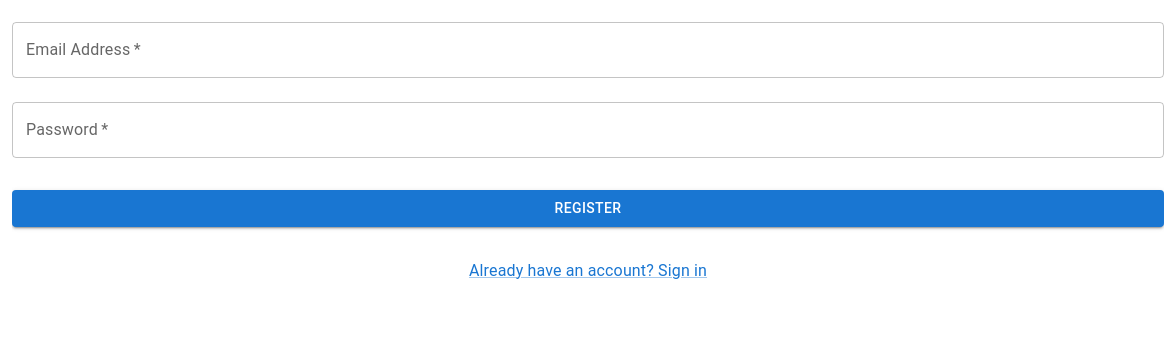
RegisterForm › displays error messages for invalid inputs
In the field labelled "Email Address *": (588,50) [12,22,1164,78], type "invalid-email"
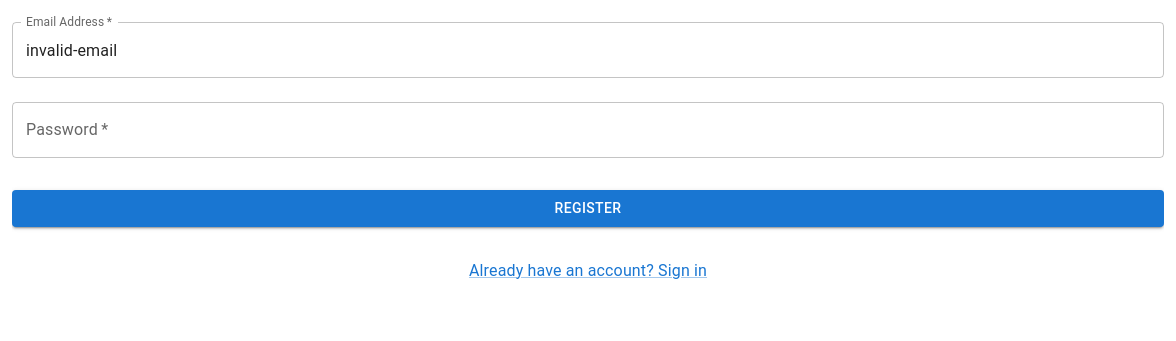
In the password field labelled "Password *": (588,130) [12,102,1164,158], type "short"
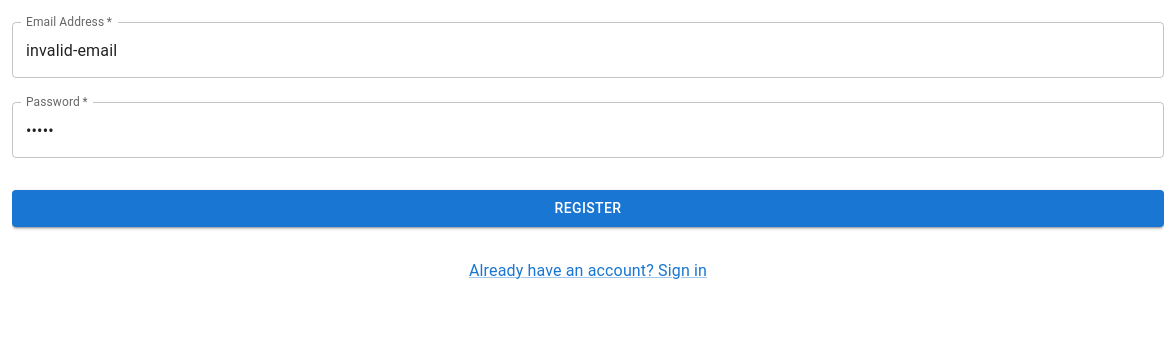
Click the button "Register": (588,208) [12,190,1164,226]
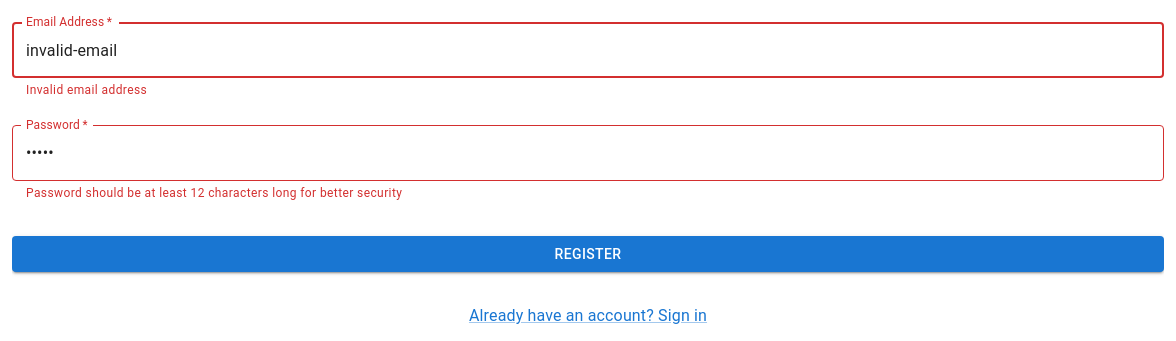
Expected: the text "Invalid email address" is shown, [26,83,147,97]
Expected: the text "Password should be at least 12 characters" is shown, [26,186,402,200]
